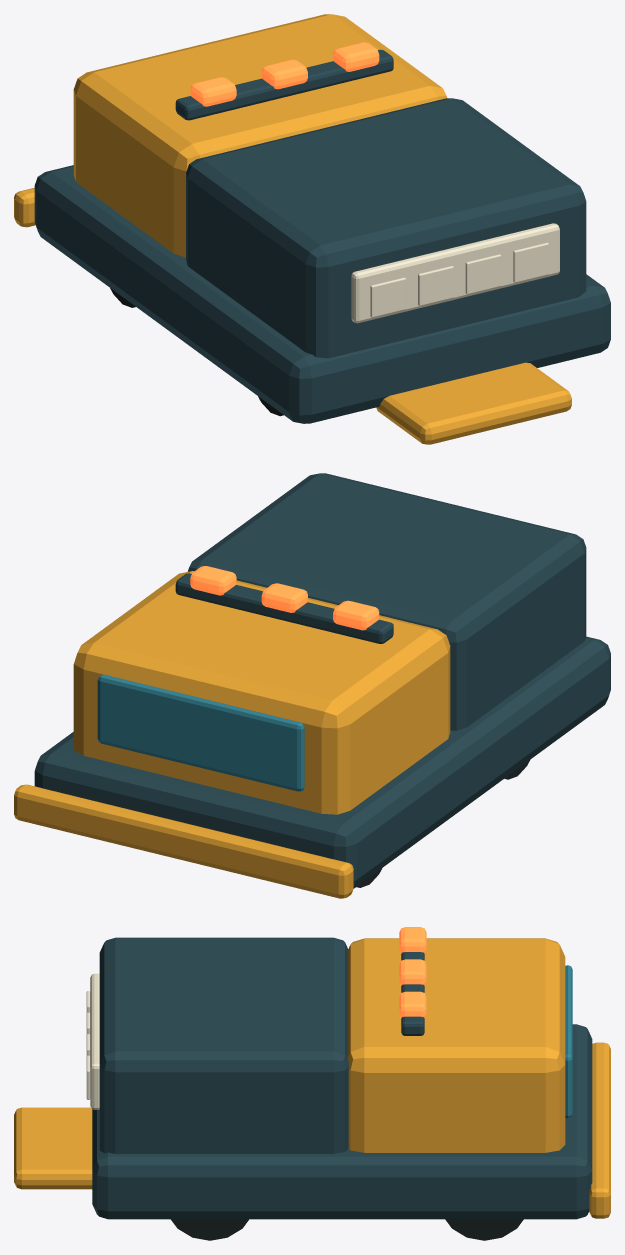
The model's file is municipal_towmaster.glb.
The picture shows the model from 3 angles, top to bottom: view 1: azimuth 30°, elevation 25°; view 2: azimuth 150°, elevation 25°; view 3: azimuth 270°, elevation 25°; orthographic projection. The views are drawn at different scales.
Visible parts, largest first — view 1: Towmaster_Towmaster_Navy_Batch, Towmaster_Towmaster_ComplianceGold_Batch, Towmaster_Towmaster_TicketPaper_Batch, Towmaster_Towmaster_Warning_Batch; view 2: Towmaster_Towmaster_Navy_Batch, Towmaster_Towmaster_ComplianceGold_Batch, Towmaster_Towmaster_Glass_Batch, Towmaster_Towmaster_Warning_Batch; view 3: Towmaster_Towmaster_Navy_Batch, Towmaster_Towmaster_ComplianceGold_Batch, Towmaster_Towmaster_Rubber_Batch, Towmaster_Towmaster_Warning_Batch, Towmaster_Towmaster_TicketPaper_Batch, Towmaster_Towmaster_Glass_Batch.
Boxes of the visible parts, x1,y1,x2,y2 form: Towmaster_Towmaster_Navy_Batch: (34,49,610,423); Towmaster_Towmaster_ComplianceGold_Batch: (14,14,571,444); Towmaster_Towmaster_TicketPaper_Batch: (351,223,559,323); Towmaster_Towmaster_Warning_Batch: (190,42,379,106); Towmaster_Towmaster_Navy_Batch: (34,473,610,888); Towmaster_Towmaster_ComplianceGold_Batch: (14,571,450,898); Towmaster_Towmaster_Glass_Batch: (97,674,304,791); Towmaster_Towmaster_Warning_Batch: (190,566,379,630); Towmaster_Towmaster_Navy_Batch: (92,937,592,1219); Towmaster_Towmaster_ComplianceGold_Batch: (14,938,610,1218); Towmaster_Towmaster_Rubber_Batch: (171,1219,523,1240); Towmaster_Towmaster_Warning_Batch: (399,927,426,1018); Towmaster_Towmaster_TicketPaper_Batch: (86,973,99,1109); Towmaster_Towmaster_Glass_Batch: (565,965,572,1118).
Size of the model in its own units: 3.65 by 2.47 by 6.09.
